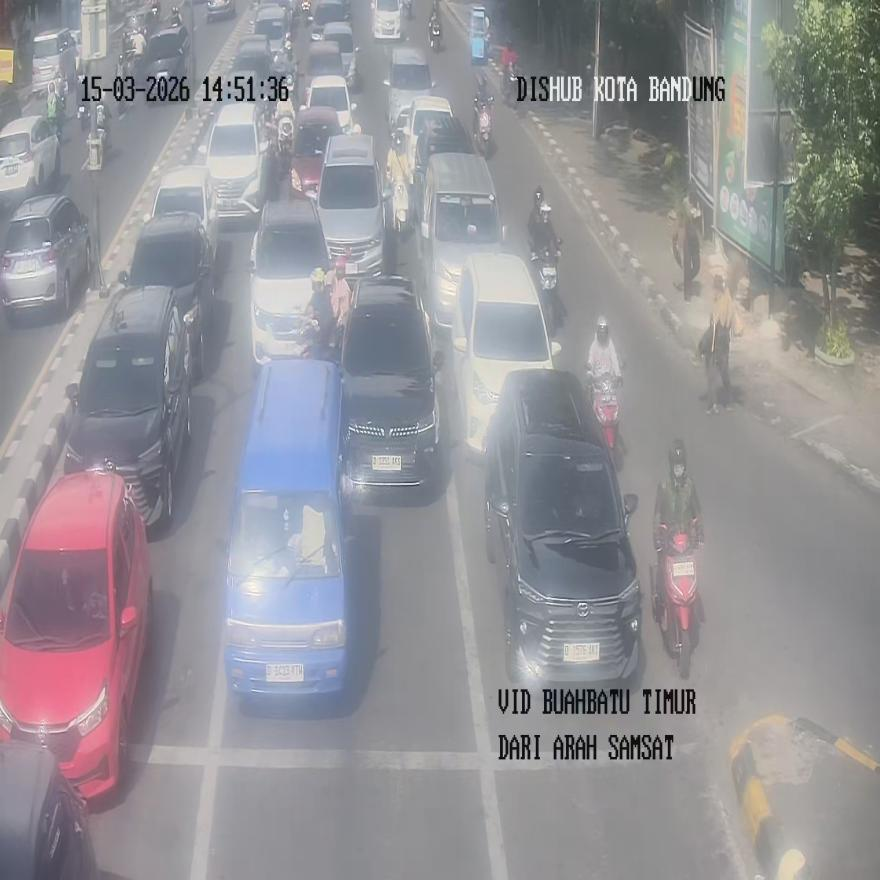Motor: (0, 463, 153, 802), (484, 369, 642, 686), (222, 359, 355, 696), (63, 284, 191, 529), (338, 274, 444, 490), (452, 251, 560, 452), (117, 210, 214, 383), (247, 194, 334, 367), (419, 153, 505, 328), (0, 741, 100, 878), (0, 193, 91, 318), (315, 132, 391, 277), (148, 166, 217, 263), (0, 114, 59, 205)
Truk: (652, 525, 700, 678), (588, 372, 622, 468), (672, 197, 702, 302), (531, 242, 561, 332), (82, 99, 109, 167), (473, 96, 492, 157), (500, 42, 517, 98), (429, 17, 442, 51)
